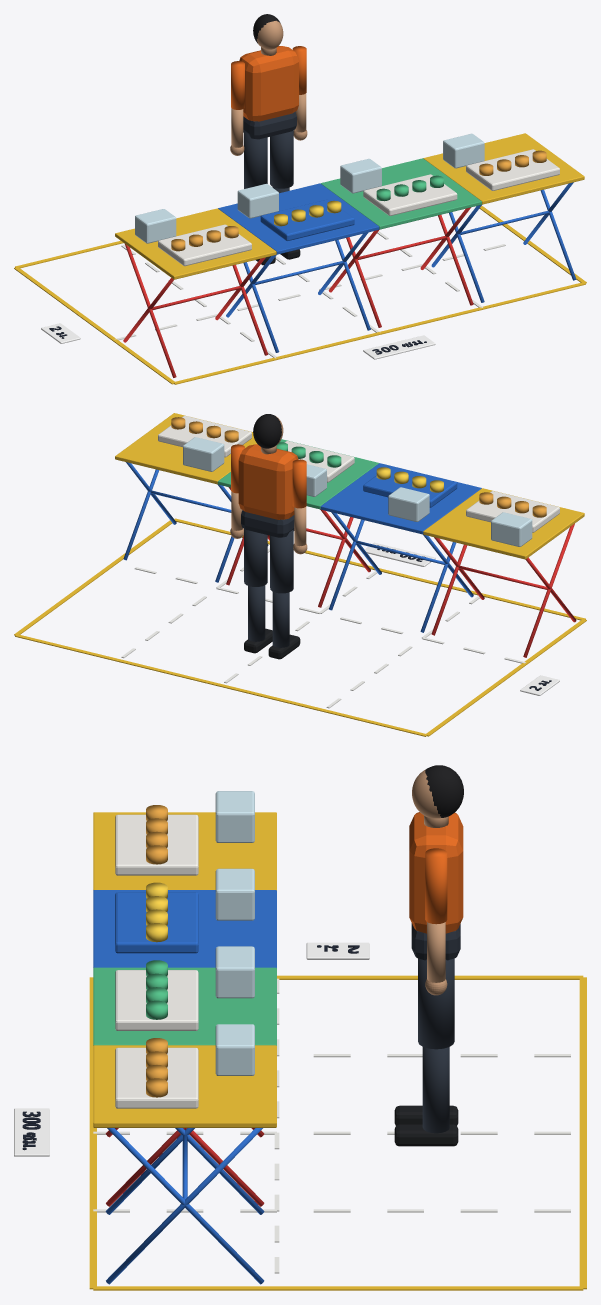
File: lot-food-4.glb
The picture shows the model from 3 angles, top to bottom: view 1: azimuth 30°, elevation 25°; view 2: azimuth 150°, elevation 25°; view 3: azimuth 270°, elevation 25°; orthographic projection. The views are drawn at different scales.
Parts seen in each view (by area): view 1: Cube.050, Cube, Cube.009, Cube.003, Cube.006, Cube.004, Cube.007, Cube.001, Cube.010, Cube.012, Cylinder.041, Cylinder.037 (+12 smaller); view 2: Cube.050, Cube, Cube.003, Cube.009, Cube.015, Cube.004, Cylinder.037, Cube.001, Cube.010, Cube.006, Cylinder.041, Cube.002 (+17 smaller); view 3: Cube.009, Cube.006, Cube.003, Cube, Cube.050, Cube.004, Cube.001, Cube.010, Cube.007, Cylinder.041, Cube.015, Cube.014 (+19 smaller).
Boxes of the visible parts, x1=… form: Cube.050: x1=239, y1=46, x2=298, y2=121; Cube: x1=115, y1=208, x2=276, y2=279; Cube.009: x1=423, y1=133, x2=584, y2=204; Cube.003: x1=218, y1=183, x2=379, y2=254; Cube.006: x1=321, y1=158, x2=481, y2=229; Cube.004: x1=260, y1=199, x2=354, y2=241; Cube.007: x1=363, y1=174, x2=457, y2=215; Cube.001: x1=158, y1=224, x2=251, y2=266; Cube.010: x1=466, y1=149, x2=559, y2=190; Cube.012: x1=173, y1=282, x2=585, y2=384; Cylinder.041: x1=270, y1=130, x2=293, y2=188; Cylinder.037: x1=244, y1=131, x2=267, y2=188; Cube.050: x1=238, y1=444, x2=298, y2=519; Cube: x1=423, y1=488, x2=584, y2=559; Cube.003: x1=320, y1=463, x2=481, y2=534; Cube.009: x1=115, y1=413, x2=257, y2=484; Cube.015: x1=15, y1=634, x2=427, y2=736; Cube.004: x1=363, y1=466, x2=457, y2=507; Cylinder.037: x1=270, y1=529, x2=293, y2=593; Cube.001: x1=466, y1=491, x2=559, y2=532; Cube.010: x1=158, y1=416, x2=251, y2=457; Cube.006: x1=217, y1=439, x2=378, y2=509; Cylinder.041: x1=244, y1=529, x2=267, y2=586; Cube.002: x1=491, y1=512, x2=532, y2=546; Cube.009: x1=93, y1=1045, x2=276, y2=1127; Cube.006: x1=93, y1=967, x2=276, y2=1045; Cube.003: x1=93, y1=890, x2=276, y2=967; Cube: x1=93, y1=812, x2=276, y2=890; Cube.050: x1=409, y1=812, x2=463, y2=933; Cube.004: x1=115, y1=892, x2=198, y2=953; Cube.001: x1=115, y1=814, x2=198, y2=875; Cube.010: x1=115, y1=1047, x2=198, y2=1108; Cube.007: x1=115, y1=970, x2=198, y2=1030; Cylinder.041: x1=418, y1=958, x2=454, y2=1049; Cube.015: x1=579, y1=977, x2=586, y2=1289; Cube.014: x1=93, y1=1286, x2=583, y2=1290.
Bounding box in the file's own units: 3.34 × 1.65 × 2.34.
